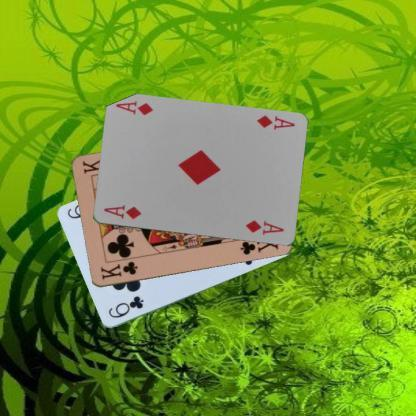6c: (106, 294, 146, 320)
Ad: (254, 113, 296, 132), (101, 202, 142, 221)
Kc: (98, 259, 138, 281)
